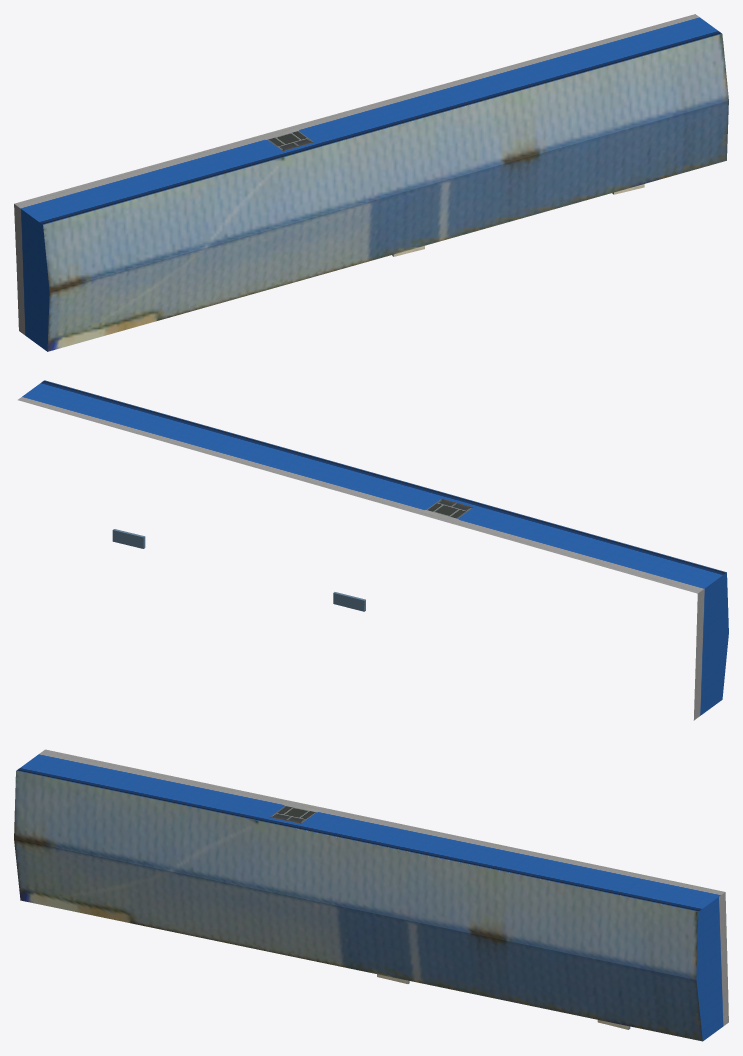
3 views of the same model, one above another, from view 1: azimuth 30°, elevation 25°; view 2: azimuth 150°, elevation 25°; view 3: azimuth 330°, elevation 25° (orthographic).
Parts seen in each view (by area): view 1: Group_MatrixTransform_i96143_Geometry_5, Group_MatrixTransform_i96143_Geometry_1, Group_MatrixTransform_i96143_Geometry_0, Group_MatrixTransform_i96143_Geometry_4; view 2: Group_MatrixTransform_i96143_Geometry_1, Group_MatrixTransform_i96143_Geometry_0, Group_MatrixTransform_i96143_Geometry_4, Group_MatrixTransform_i96143_Geometry_2; view 3: Group_MatrixTransform_i96143_Geometry_5, Group_MatrixTransform_i96143_Geometry_1, Group_MatrixTransform_i96143_Geometry_0, Group_MatrixTransform_i96143_Geometry_4.
Part boxes in pixels (box(x1,y1,x2,y2)): Group_MatrixTransform_i96143_Geometry_5: box(43, 34, 728, 351); Group_MatrixTransform_i96143_Geometry_1: box(14, 14, 721, 224); Group_MatrixTransform_i96143_Geometry_0: box(14, 204, 49, 351); Group_MatrixTransform_i96143_Geometry_4: box(259, 126, 320, 155); Group_MatrixTransform_i96143_Geometry_1: box(18, 380, 726, 593); Group_MatrixTransform_i96143_Geometry_0: box(693, 572, 728, 720); Group_MatrixTransform_i96143_Geometry_4: box(419, 493, 480, 523); Group_MatrixTransform_i96143_Geometry_2: box(112, 529, 365, 611); Group_MatrixTransform_i96143_Geometry_5: box(14, 771, 702, 1041); Group_MatrixTransform_i96143_Geometry_1: box(16, 749, 724, 911); Group_MatrixTransform_i96143_Geometry_0: box(696, 892, 728, 1040); Group_MatrixTransform_i96143_Geometry_4: box(262, 801, 323, 828).
Size of the model in its own units: 75.43 by 16.17 by 6.38.
7 materials, 7 textured.
